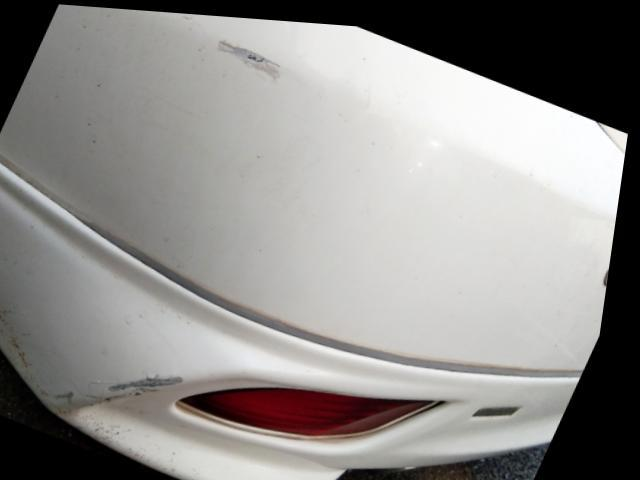scratch: (63, 372, 199, 411), (211, 32, 287, 83)
